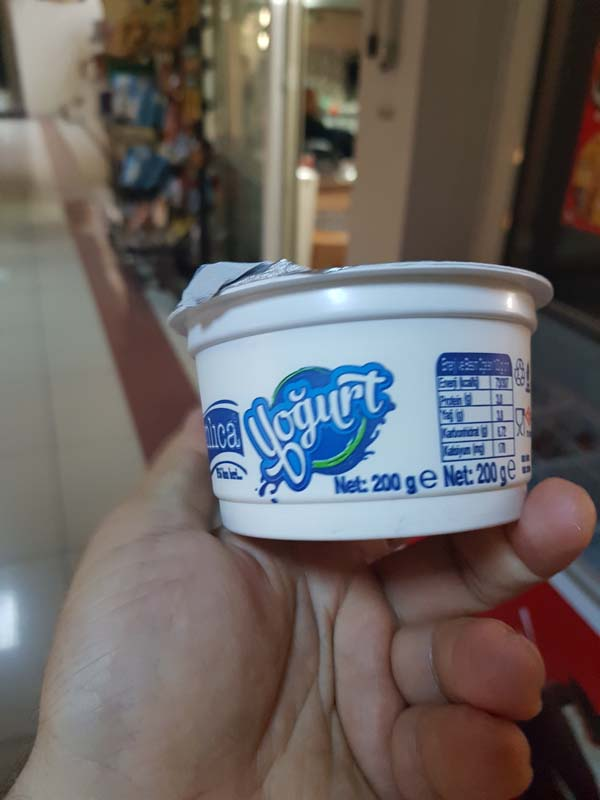camlicayogurt: (165, 250, 561, 546)
